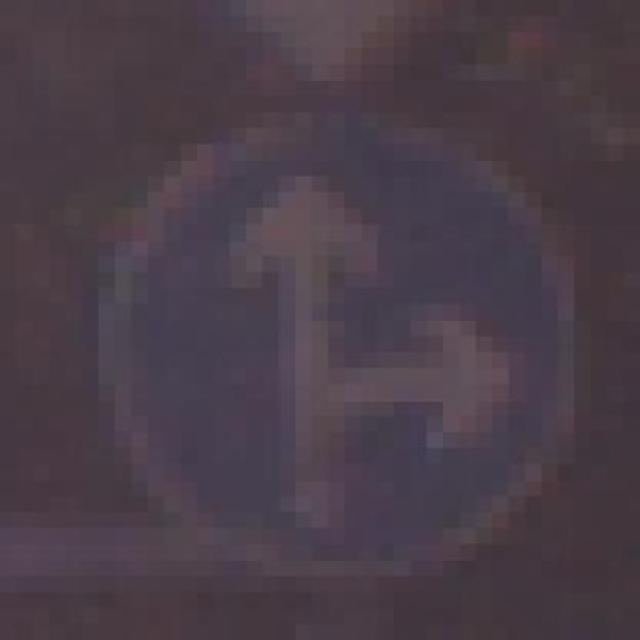Go Straight or Turn Right: (98, 96, 591, 576)
